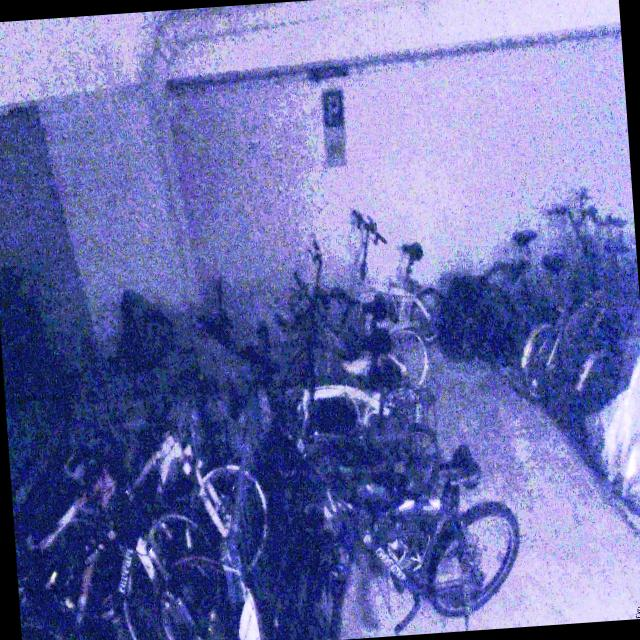bike: (49, 387, 274, 619), (286, 439, 526, 640), (7, 422, 220, 640), (509, 206, 640, 399), (280, 232, 430, 392), (478, 200, 605, 340), (324, 206, 447, 350)
